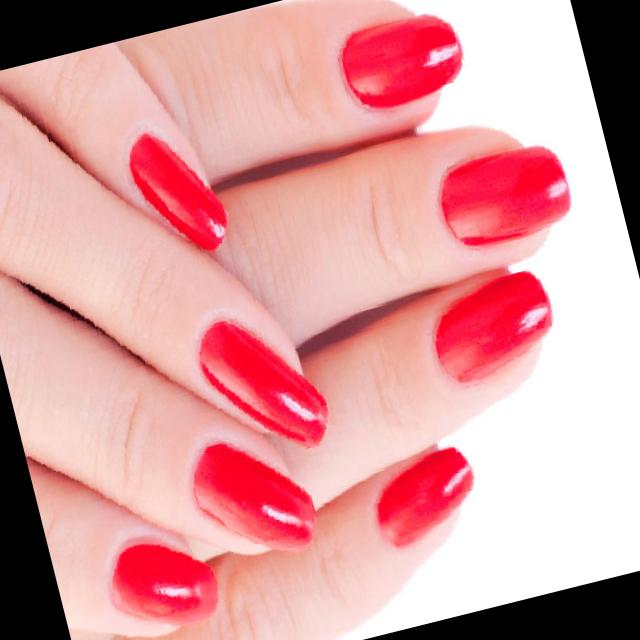Nail: (198, 321, 327, 446), (192, 443, 314, 551), (434, 271, 551, 382), (440, 146, 569, 246), (128, 133, 227, 250), (341, 14, 461, 108), (375, 447, 473, 546), (111, 543, 217, 625)
